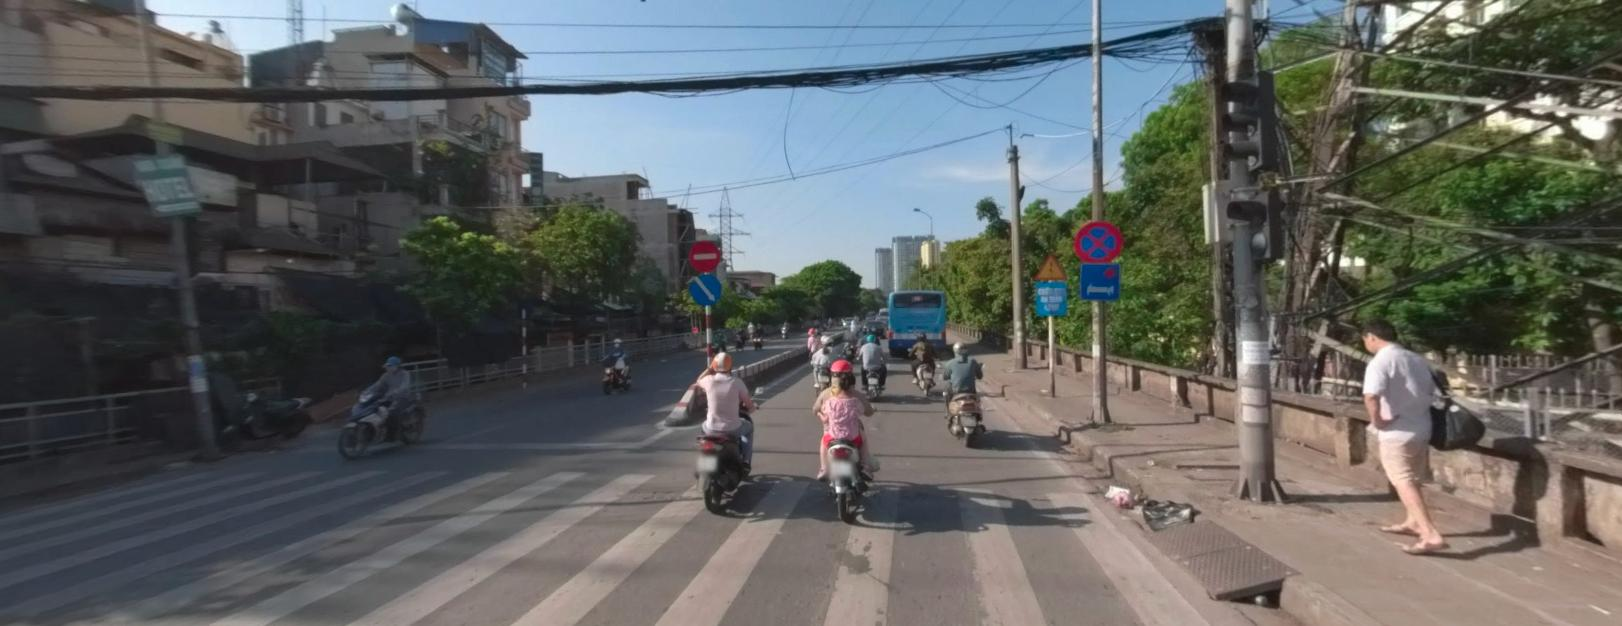Cam dung va do: (1074, 220, 1121, 262)
Cam nguoc chieu: (689, 239, 718, 269)
Hieu lenh: (689, 272, 720, 303)
Nguy hiem: (1034, 251, 1065, 277)
